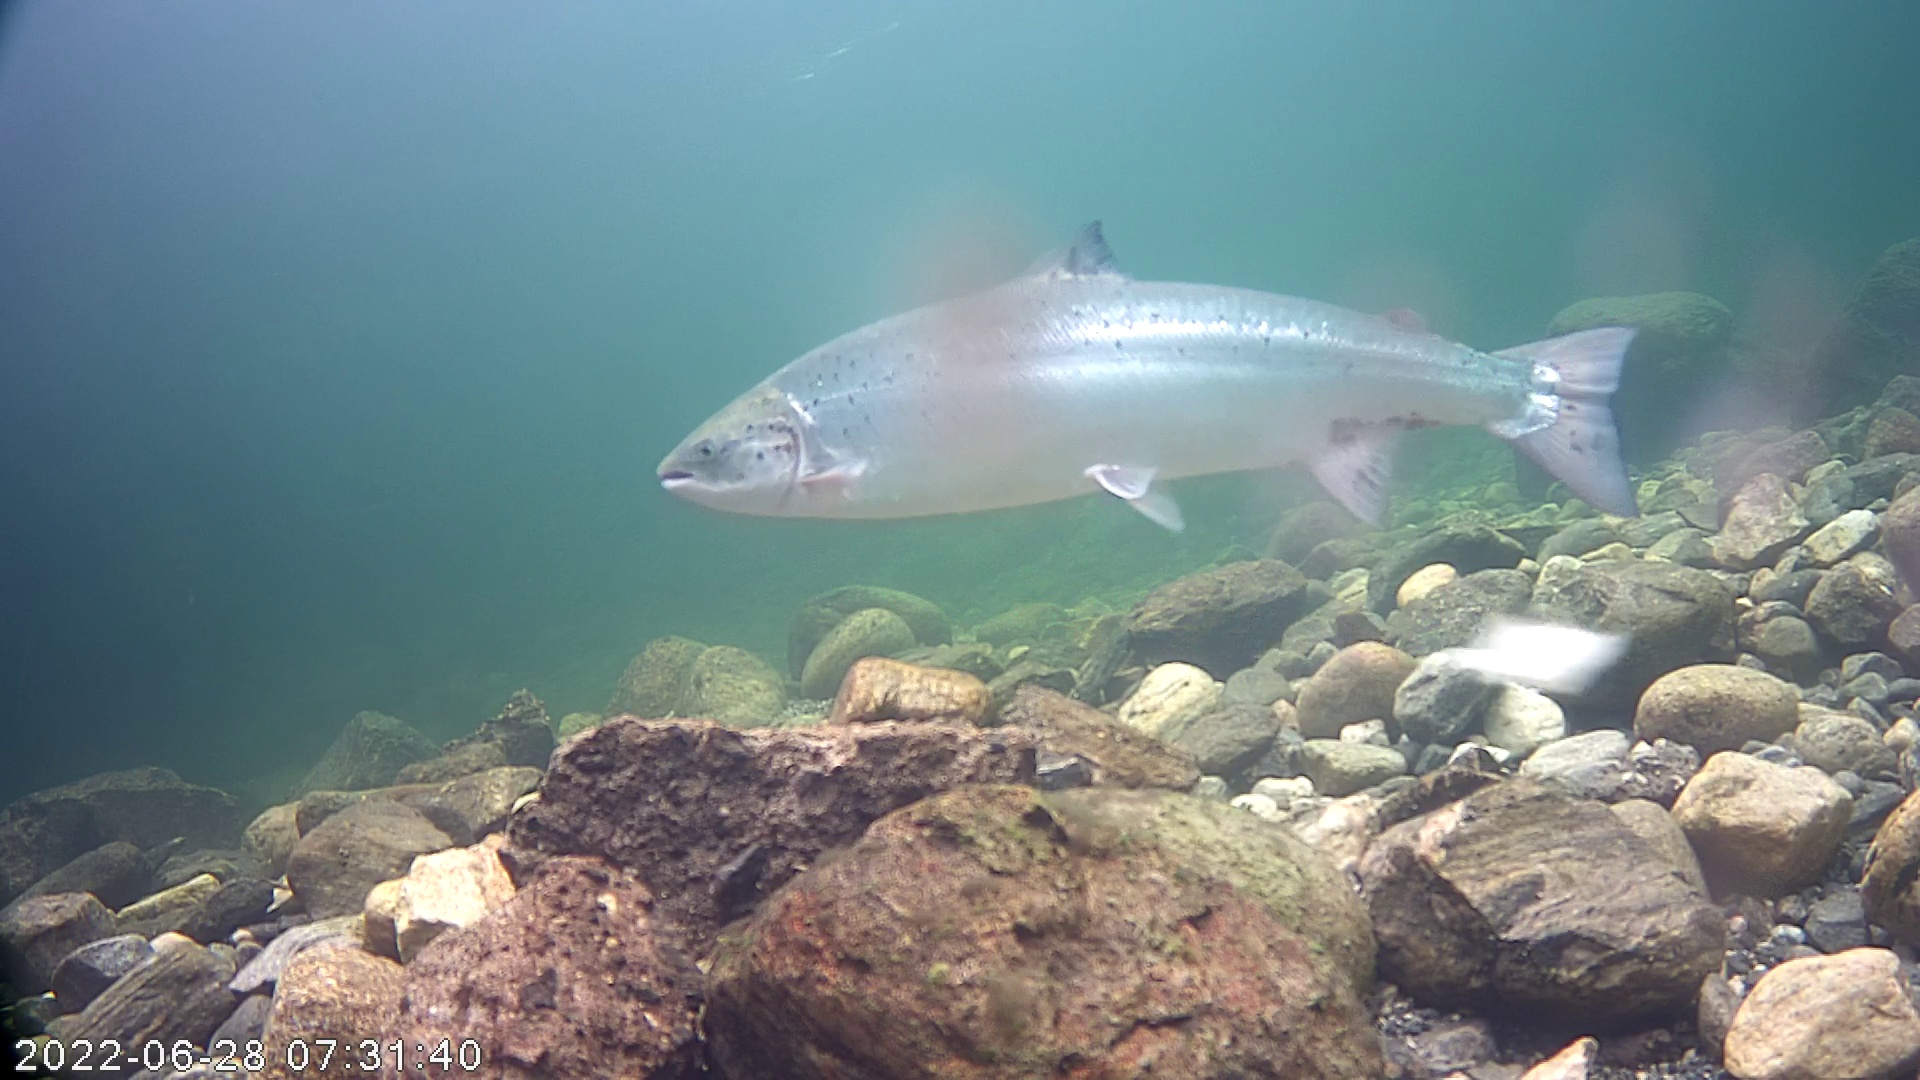salmon: (647, 131, 1689, 603)
